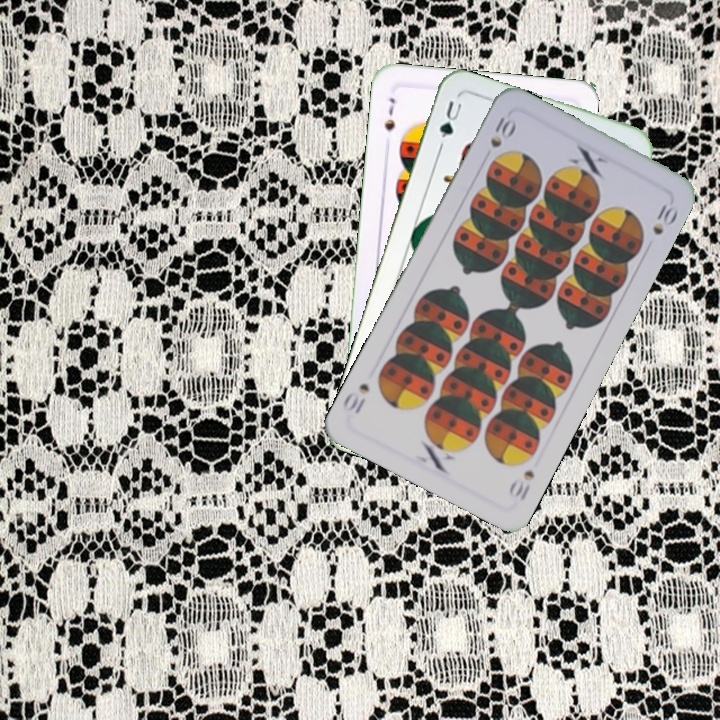GU: (435, 96, 465, 141)
S10: (504, 466, 537, 504), (486, 112, 518, 151)
S7: (380, 94, 398, 134)
